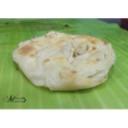parota: (14, 32, 117, 92)
